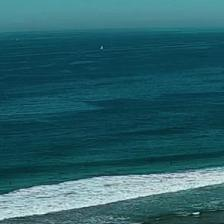surfer: (116, 168, 121, 172), (59, 172, 65, 175), (48, 178, 54, 180), (170, 161, 173, 165), (151, 156, 154, 159), (8, 182, 11, 184)
